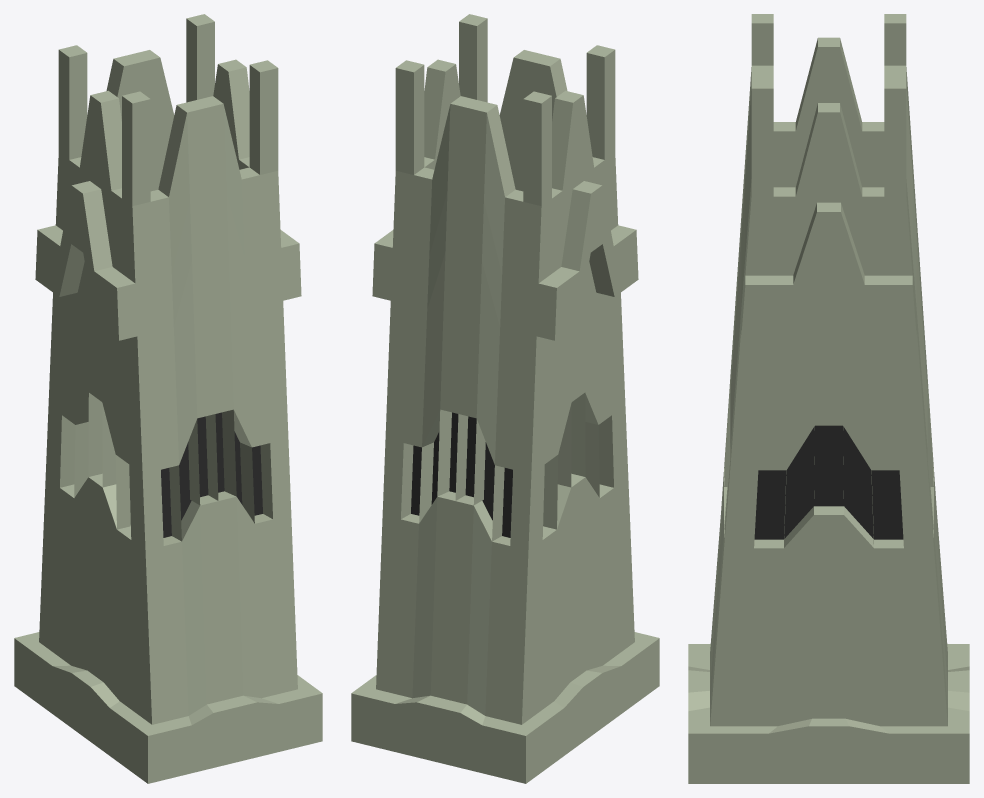
File: TorreQuadrada 1.fbx
3 views of the same model, side by side, from view 1: azimuth 30°, elevation 25°; view 2: azimuth 150°, elevation 25°; view 3: azimuth 270°, elevation 25° (orthographic). The views are drawn at different scales.
Parts seen in each view (by area): view 1: Cube; view 2: Cube; view 3: Cube.
Part boxes in pixels (x1,y1,x2,y2): Cube: (14,14,322,783); Cube: (351,14,659,783); Cube: (688,14,969,783).
Size of the model in its own units: 453 by 1552 by 575.
